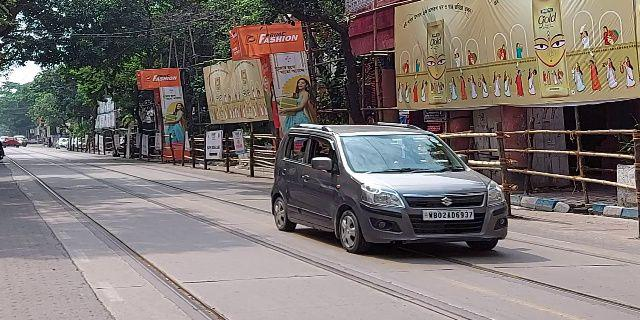Car: (270, 120, 514, 262)
